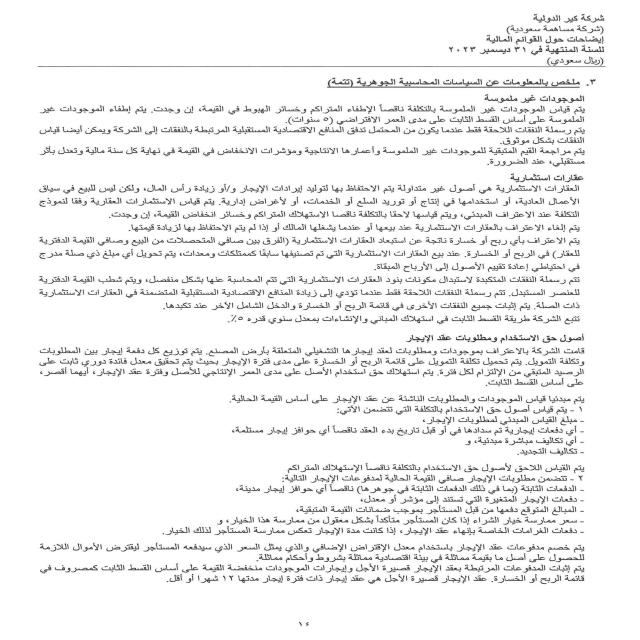notes: (476, 34, 609, 46)
text: (21, 74, 609, 602)
